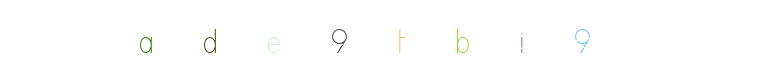9: (305, 0, 385, 80), (543, 0, 623, 80)
A: (107, 0, 187, 80)
B: (371, 0, 451, 80)
D: (229, 0, 309, 80)
E: (269, 0, 349, 80)
I: (388, 0, 468, 80)
T: (350, 0, 430, 80)
